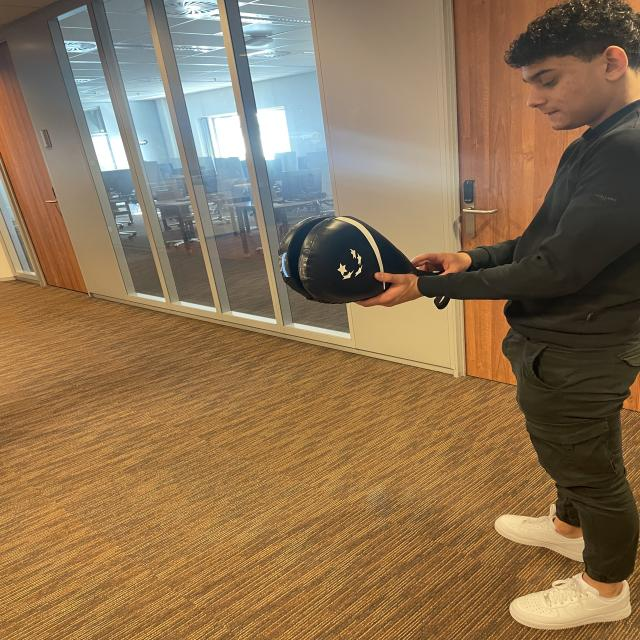paddle: (291, 220, 401, 301)
